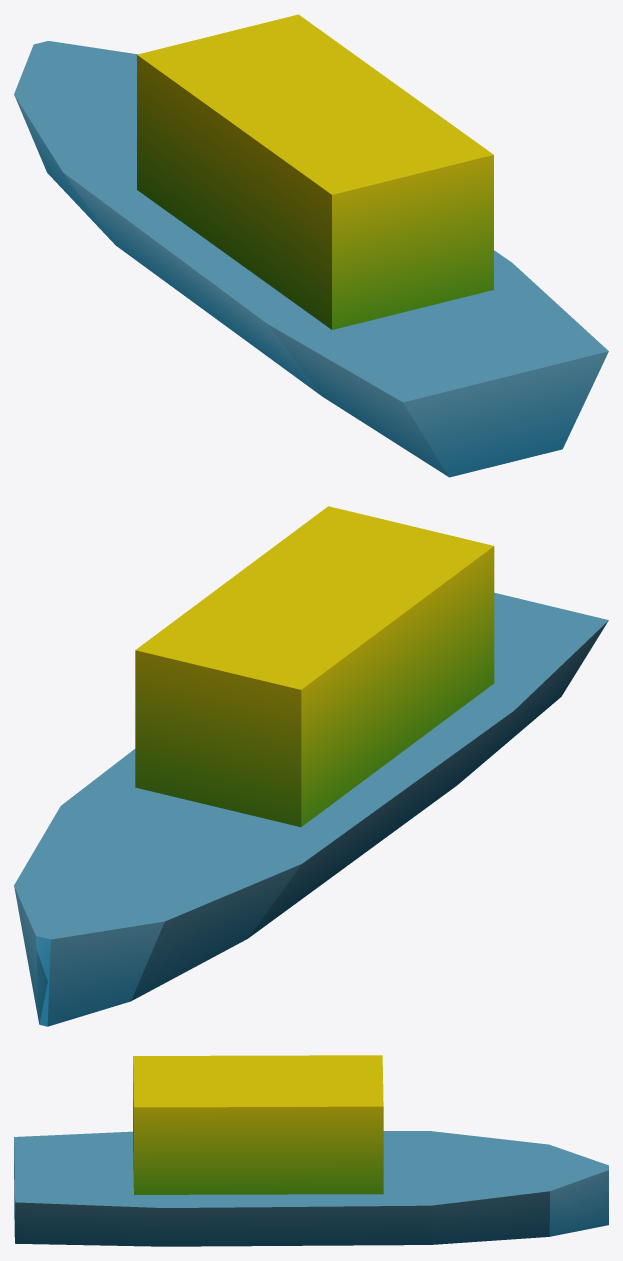
The model's file is LowPoly_Boat.fbx.
The picture shows the model from 3 angles, top to bottom: view 1: azimuth 30°, elevation 25°; view 2: azimuth 150°, elevation 25°; view 3: azimuth 270°, elevation 25°; orthographic projection. The views are drawn at different scales.
Parts seen in each view (by area): view 1: LowPoly_Boat; view 2: LowPoly_Boat; view 3: LowPoly_Boat.
Boxes of the visible parts, <box> form: LowPoly_Boat: <box>14,14,608,477</box>; LowPoly_Boat: <box>14,506,608,1026</box>; LowPoly_Boat: <box>14,1055,608,1246</box>.
Bounding box in the file's own units: 3.72 × 3.2 × 12.01.
